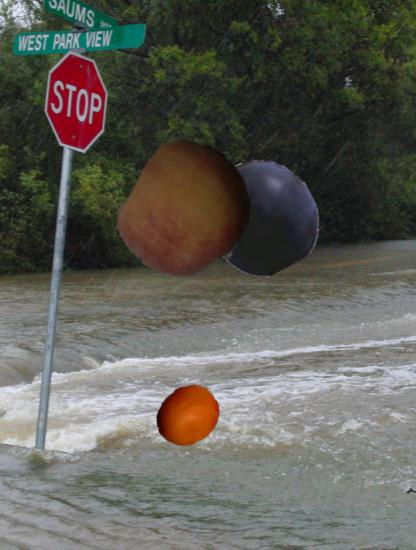Apricot: (154, 382, 221, 449)
Grape: (205, 159, 320, 274)
Peach: (119, 143, 255, 279)
